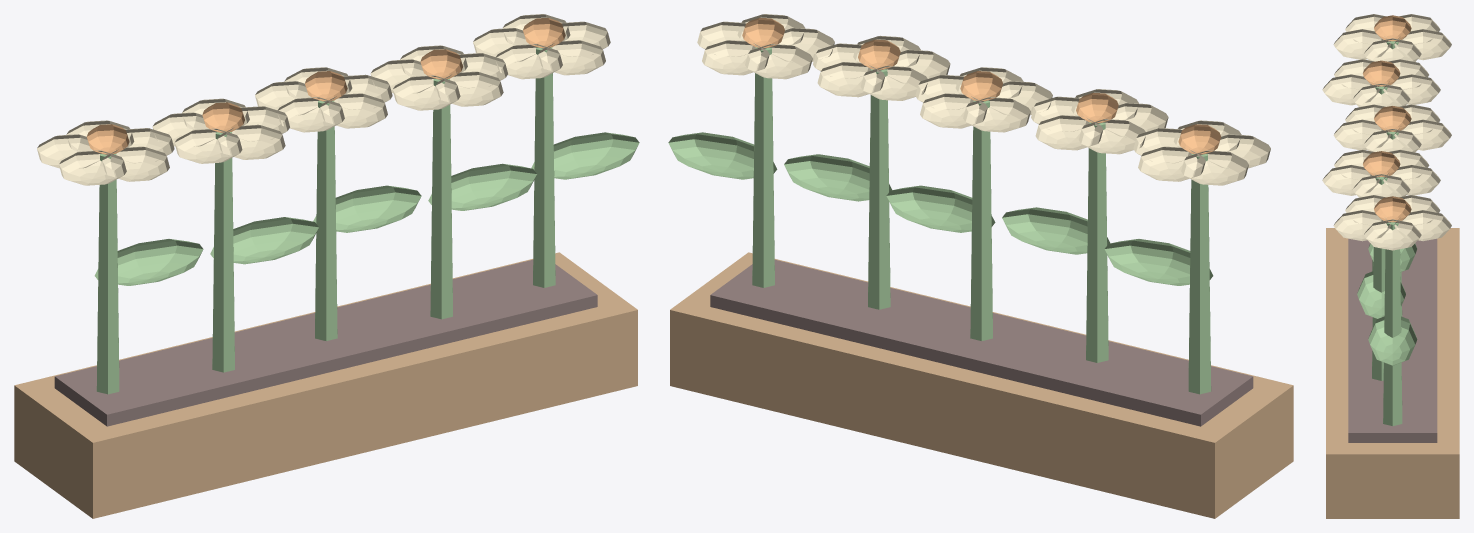
Rendered from meadow-courier-daisy-garden-border__36.glb.
3 renders of one model, left to right at view 1: azimuth 30°, elevation 25°; view 2: azimuth 150°, elevation 25°; view 3: azimuth 270°, elevation 25°, orthographic. The views are drawn at different scales.
Parts seen in each view (by area): view 1: meadow-courier-flower-border; view 2: meadow-courier-flower-border; view 3: meadow-courier-flower-border.
Boxes of the visible parts, box(x1,y1,x2,y2) form: meadow-courier-flower-border: box(14, 14, 639, 518); meadow-courier-flower-border: box(668, 14, 1293, 518); meadow-courier-flower-border: box(1322, 14, 1459, 518).
Size of the model in its own units: 1.3 by 0.736 by 0.308.
